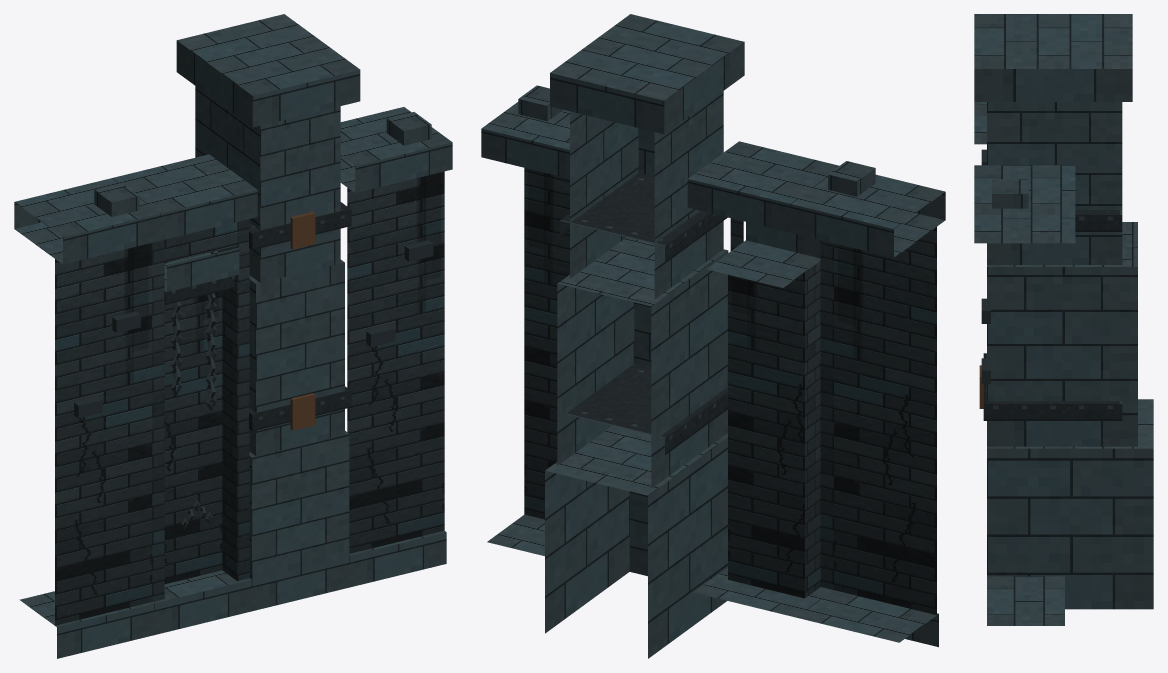
Rendered from T1_End_C.fbx.
The picture shows the model from 3 angles, left to right: view 1: azimuth 30°, elevation 25°; view 2: azimuth 150°, elevation 25°; view 3: azimuth 270°, elevation 25°; orthographic projection. The views are drawn at different scales.
Parts seen in each view (by area): view 1: T1_End_C; view 2: T1_End_C; view 3: T1_End_C.
Boxes of the visible parts, x1,y1,x2,y2 form: T1_End_C: (14,14,452,658); T1_End_C: (481,14,945,658); T1_End_C: (974,14,1153,625).
Size of the model in its own units: 4.5 by 5.75 by 1.72.
